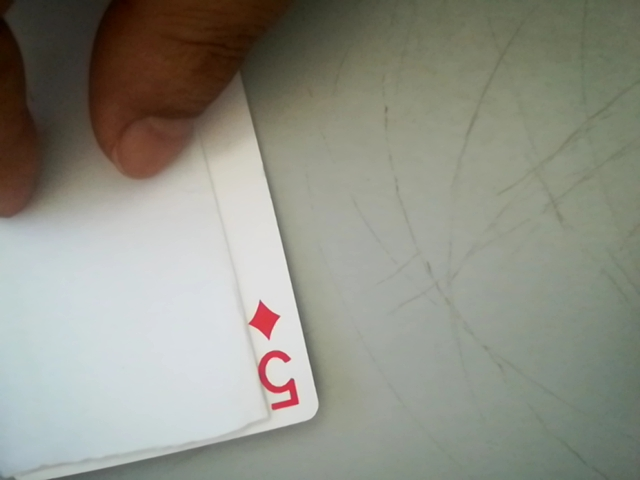fk 5: (235, 293, 316, 422)
